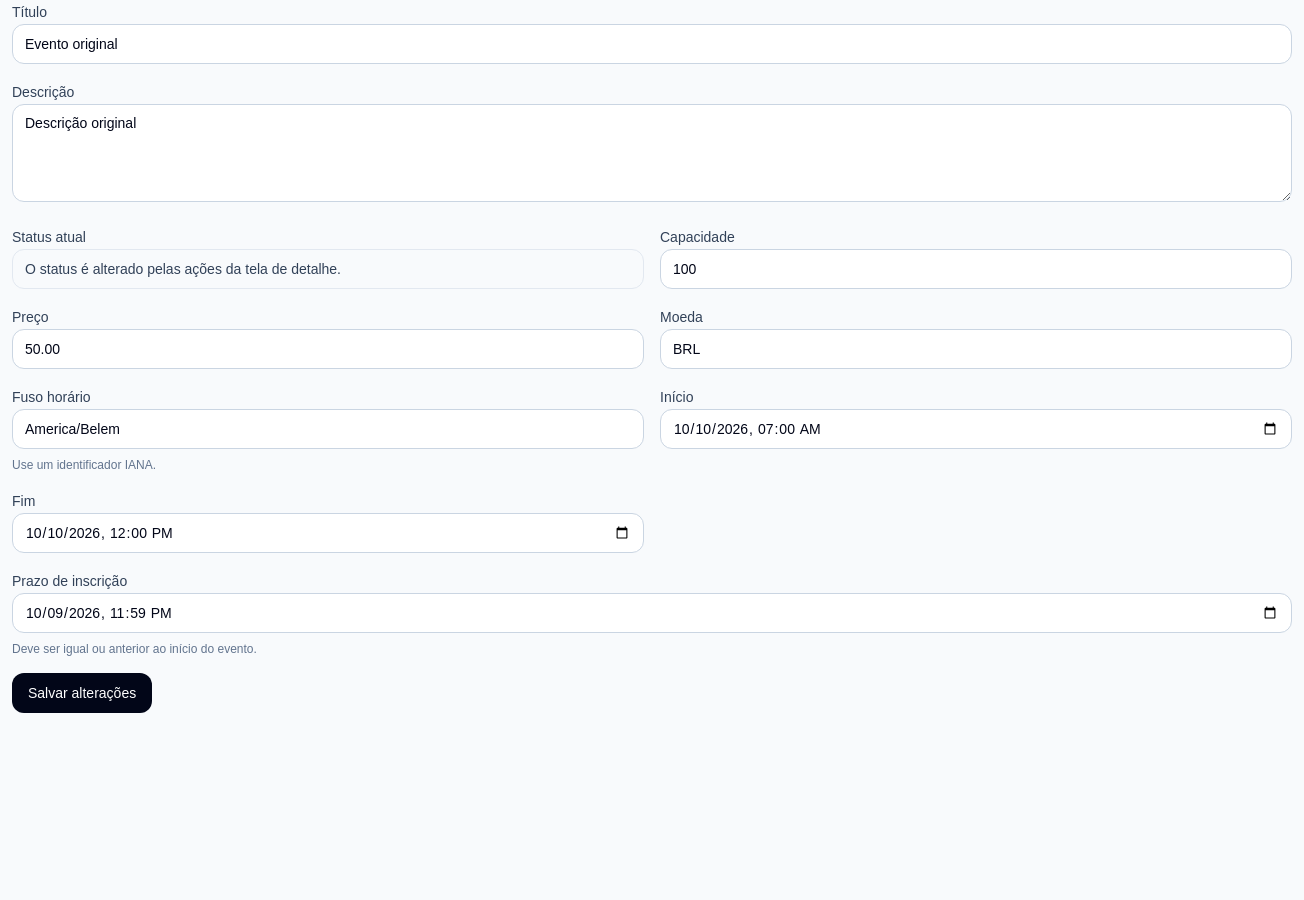
Scenario: EventForm › recarrega os dados quando o backend informa conflito de versão
Click the button "Salvar alterações". click: (82, 693)
box: [12,673,152,713]
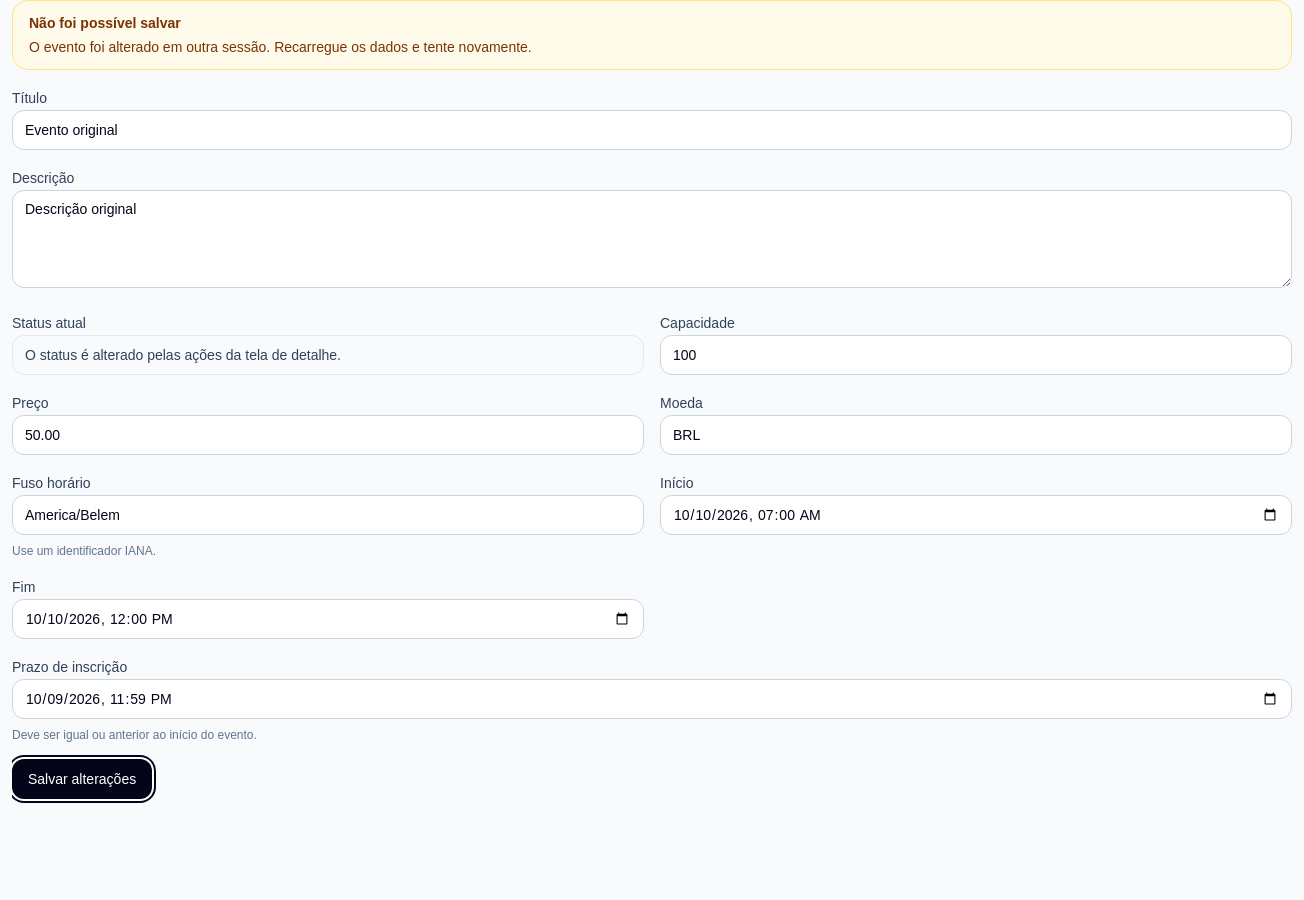
Now the text "evento foi alterado em outra sessão" is shown, box [29,39,532,55]
